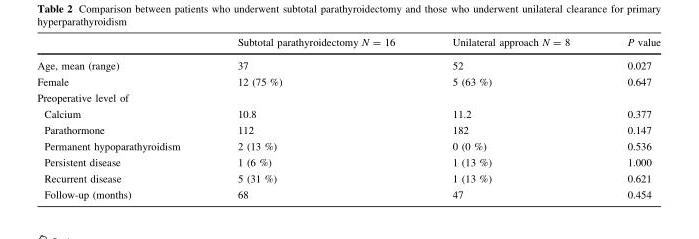table: (36, 37, 660, 199)
table column: (208, 37, 423, 199), (423, 37, 598, 199), (36, 37, 208, 199), (598, 37, 660, 199)
table column header: (36, 37, 660, 53)
table projected row header: (36, 89, 660, 106)
table row: (36, 53, 660, 73), (36, 89, 660, 106), (36, 37, 660, 53), (36, 73, 660, 89), (36, 106, 660, 122), (36, 122, 660, 138), (36, 138, 660, 154), (36, 154, 660, 170), (36, 170, 660, 186), (36, 186, 660, 199)
table spanning cell: (36, 106, 208, 138)
